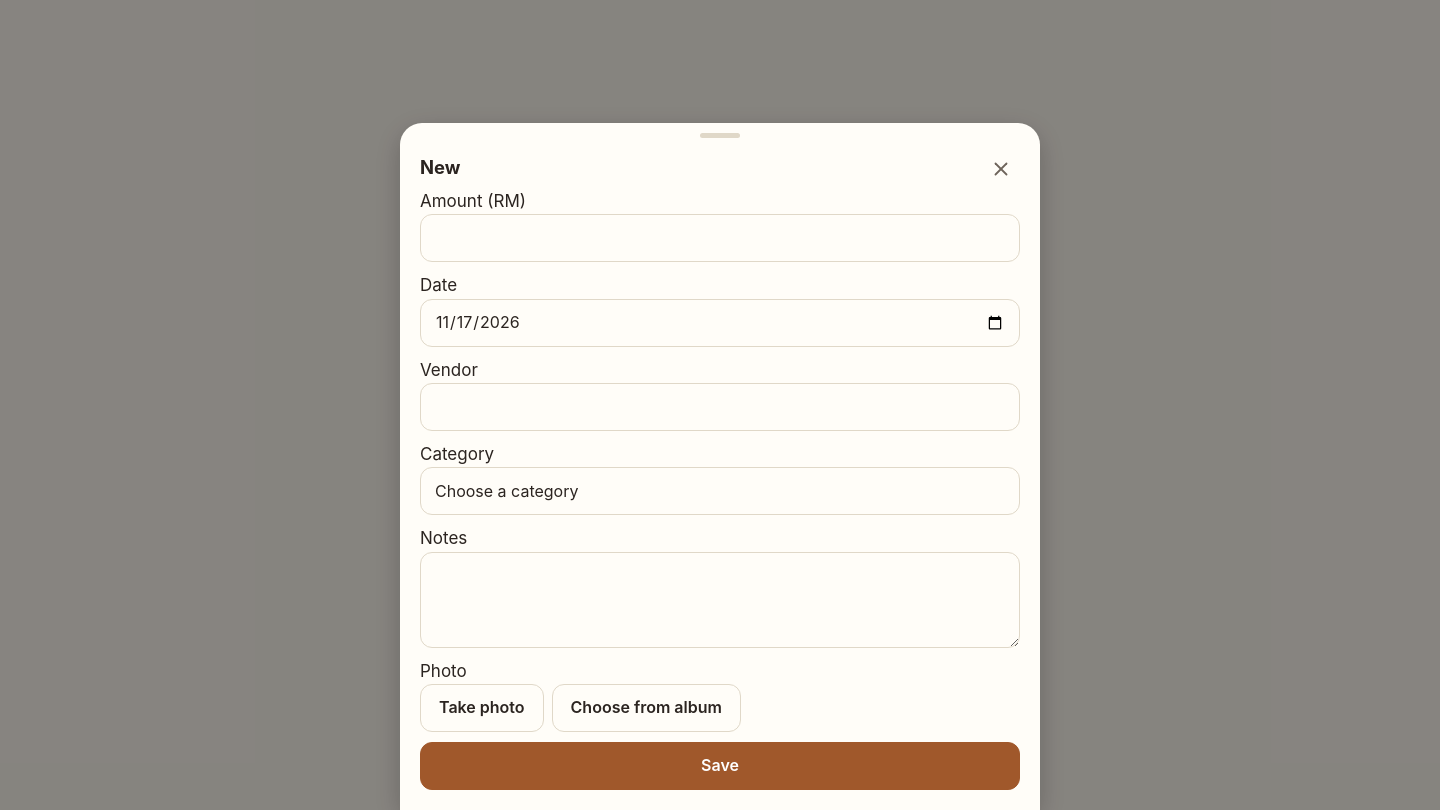
Test: InvoiceEditor › requires a photo on a new invoice
In the field labelled "Amount (RM)": (720, 238) left=420, top=214, right=1020, bottom=262, type "12.50"
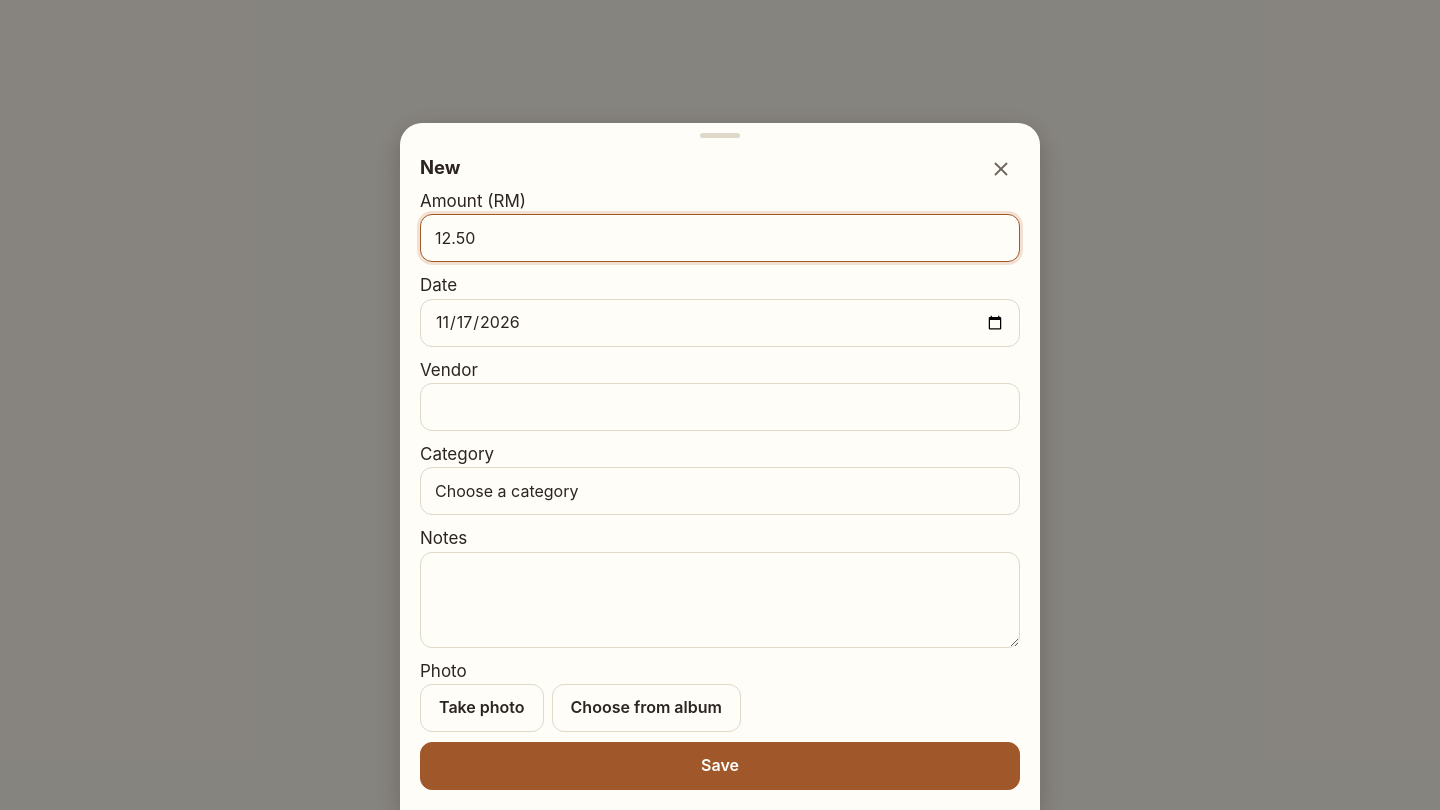
Click the button "Save": (720, 766) left=420, top=742, right=1020, bottom=790
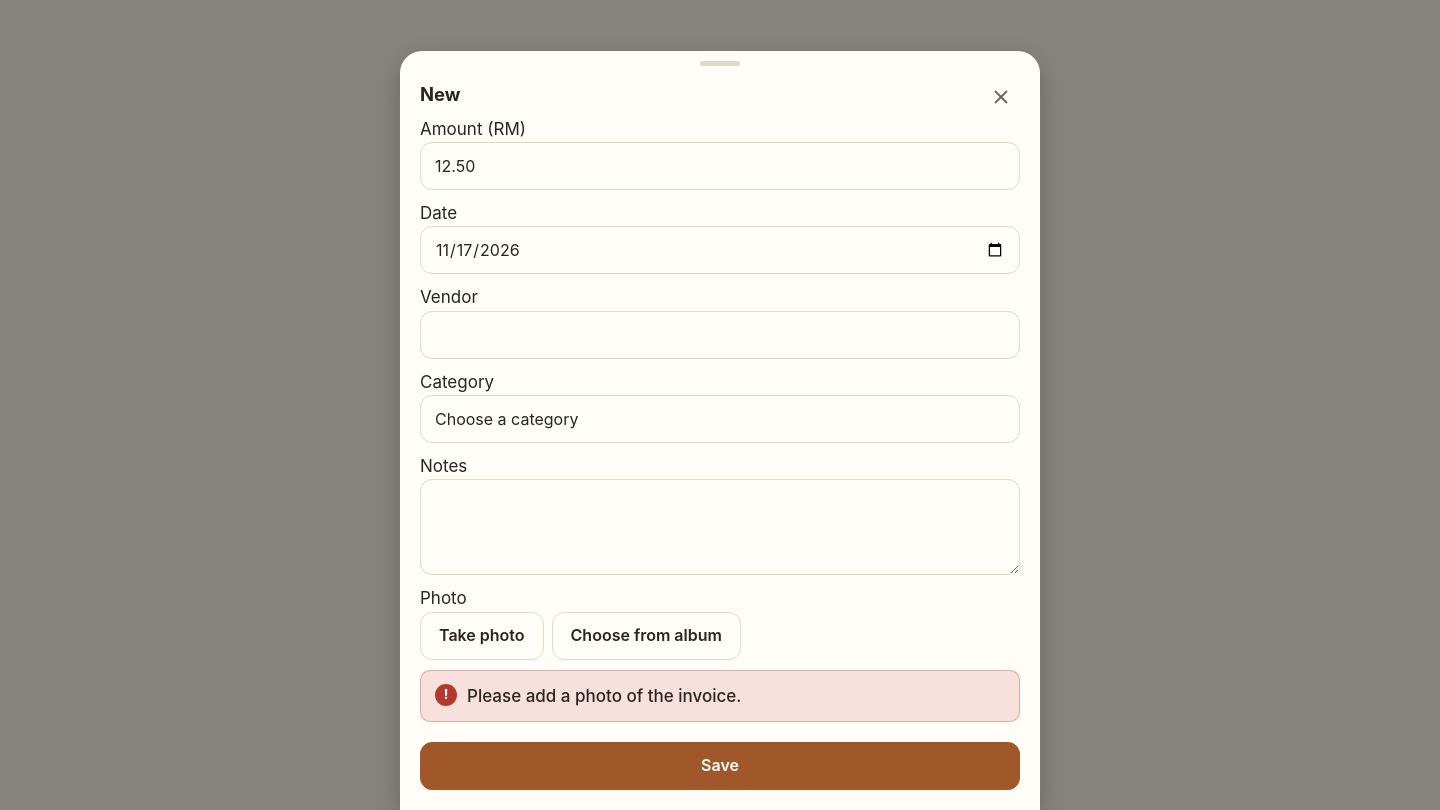
Expected: the message shows "add a photo", left=467, top=686, right=742, bottom=706
